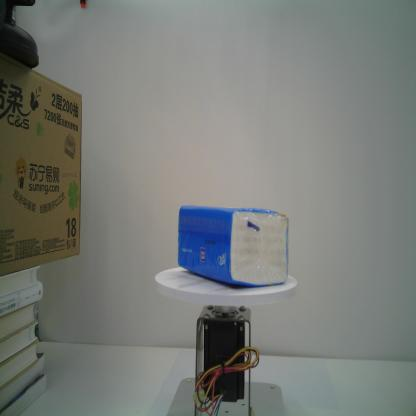Tissue: (175, 202, 293, 290)
